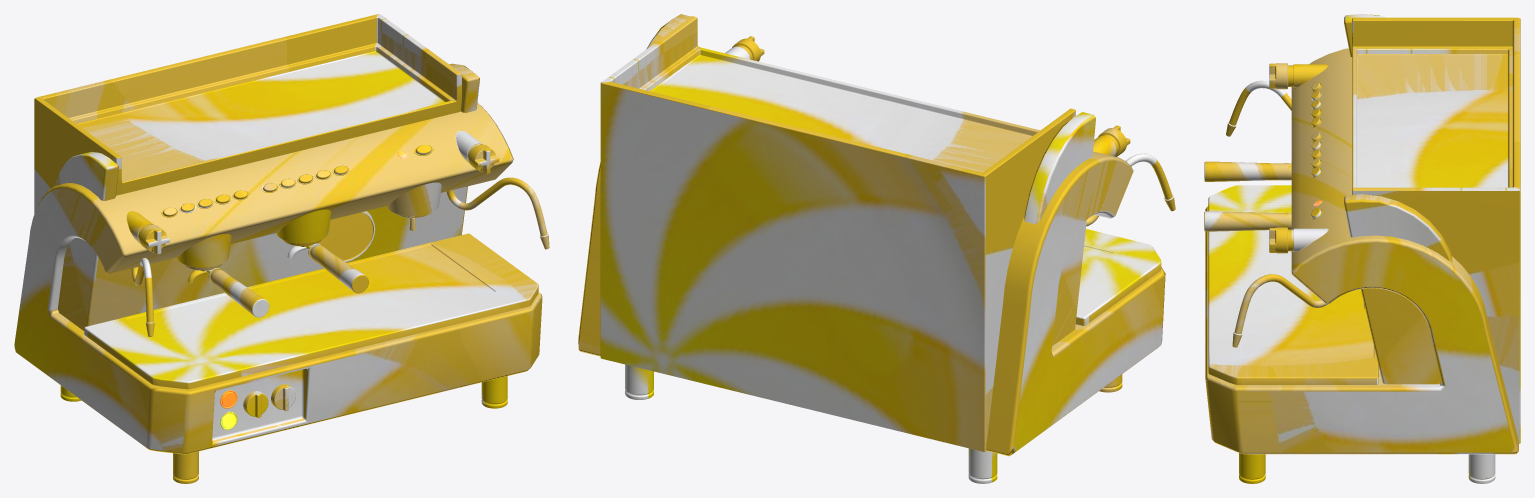
Rendered from commercial_coffee.fbx.
The picture shows the model from 3 angles, left to right: view 1: azimuth 30°, elevation 25°; view 2: azimuth 150°, elevation 25°; view 3: azimuth 270°, elevation 25°; orthographic projection. The views are drawn at different scales.
Visible parts, largest first — view 1: g.043, g.042, g.015, g.013, g.014, g.022, g.027, g.019, g.021, g.030, g.017, g.016 (+4 smaller); view 2: g.042, g.043, g.013, g.015, g.001, g, g.016; view 3: g.043, g.042, g.015, g.013, g.030, g.021, g.017, g, g.002, g.016, g.003, g.011 (+2 smaller).
Boxes of the visible parts, box(x1,y1,x2,y2) form: g.043: box(14, 103, 542, 454); g.042: box(34, 14, 461, 213); g.015: box(84, 233, 538, 389); g.013: box(55, 63, 479, 330); g.014: box(317, 211, 375, 262); g.022: box(276, 209, 331, 243); g.027: box(177, 233, 231, 267); g.019: box(387, 182, 441, 216); g.021: box(305, 243, 368, 293); g.030: box(205, 268, 269, 317); g.017: box(446, 177, 549, 249); g.016: box(131, 258, 154, 336); g.042: box(600, 16, 1075, 451); g.043: box(578, 151, 1165, 456); g.013: box(646, 14, 1095, 345); g.015: box(1075, 229, 1161, 325); g.001: box(968, 448, 997, 483); g: box(625, 364, 653, 400); g.016: box(1086, 153, 1175, 226); g.043: box(1205, 48, 1518, 454); g.042: box(1352, 17, 1520, 443); g.015: box(1208, 185, 1378, 384); g.013: box(1344, 14, 1452, 384); g.030: box(1204, 161, 1291, 181); g.021: box(1204, 211, 1291, 231); g.017: box(1232, 274, 1328, 347); g: box(1468, 454, 1495, 483); g.002: box(1239, 453, 1265, 483); g.016: box(1226, 80, 1291, 136); g.003: box(1269, 227, 1293, 253); g.011: box(1269, 63, 1293, 89).
Bounding box in the file's own units: 200 × 137 × 132.
